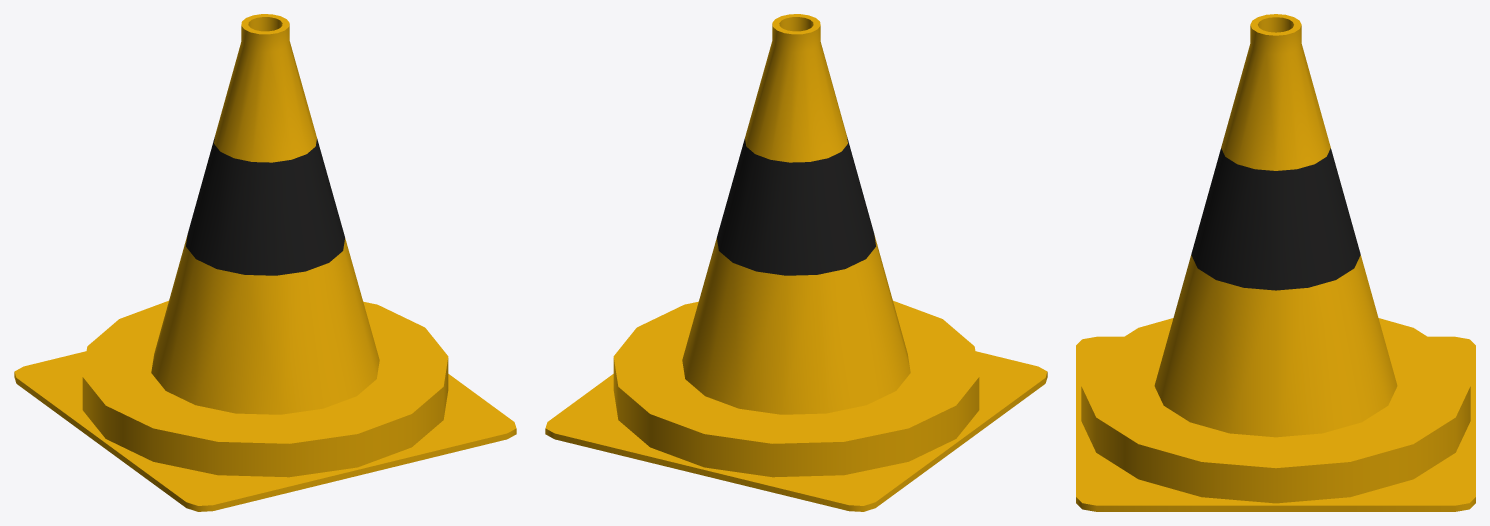
The model's file is TrafficCone_Small_Yellow.gltf.
3 renders of one model, left to right at view 1: azimuth 30°, elevation 25°; view 2: azimuth 150°, elevation 25°; view 3: azimuth 270°, elevation 25°, orthographic. The views are drawn at different scales.
Parts seen in each view (by area): view 1: TrafficCone_Small_Yellow; view 2: TrafficCone_Small_Yellow; view 3: TrafficCone_Small_Yellow.
Part boxes in pixels (x1,y1,x2,y2): TrafficCone_Small_Yellow: (14, 14, 516, 511); TrafficCone_Small_Yellow: (545, 14, 1047, 511); TrafficCone_Small_Yellow: (1076, 14, 1475, 511).
Size of the model in its own units: 0.288 by 0.32 by 0.288.
